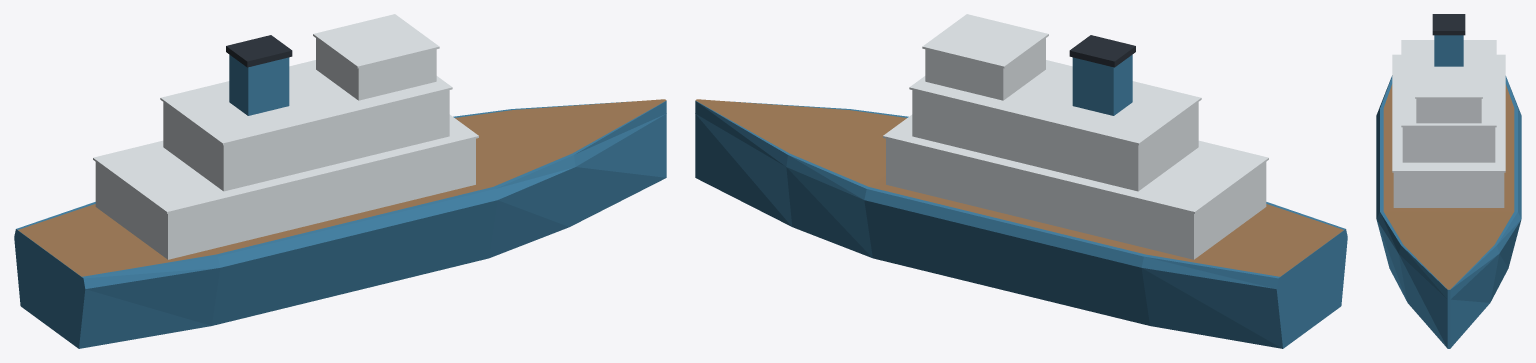
The model's file is ferry_lod2.glb.
3 views of the same model, side by side, from view 1: azimuth 30°, elevation 25°; view 2: azimuth 150°, elevation 25°; view 3: azimuth 270°, elevation 25° (orthographic). The views are drawn at different scales.
Parts seen in each view (by area): view 1: body; view 2: body; view 3: body.
Boxes of the visible parts, <box> form: body: <box>14,14,666,348</box>; body: <box>695,14,1347,348</box>; body: <box>1376,14,1521,348</box>.
Size of the model in its own units: 30 by 10.62 by 8.
